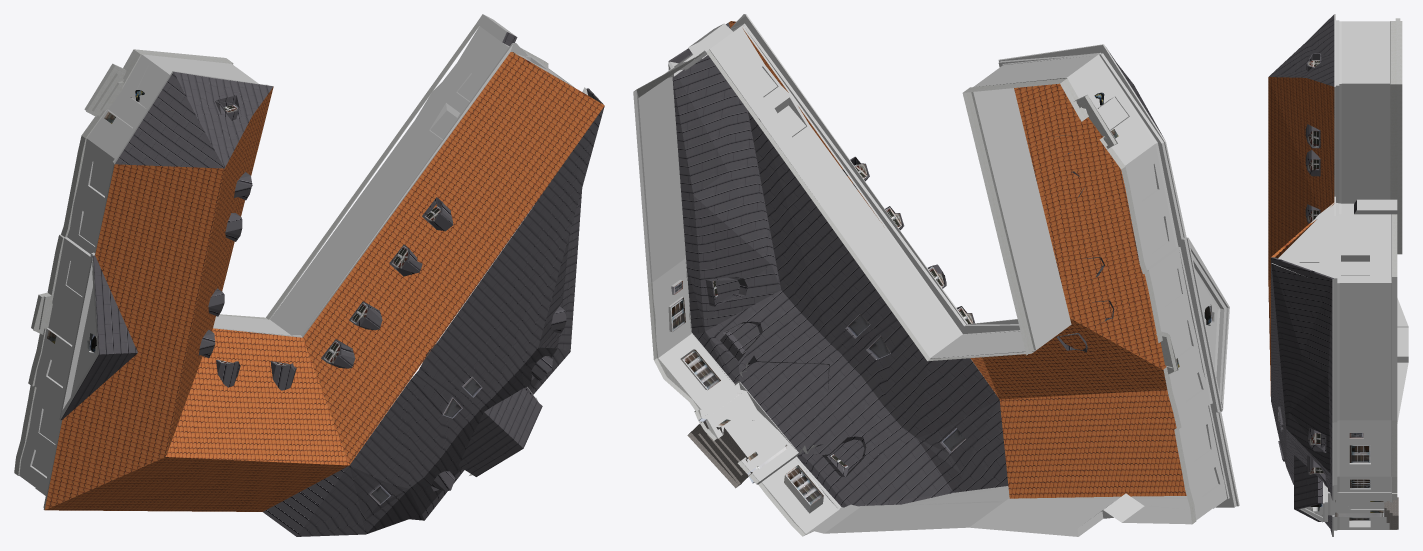
File: Rahukohtu-2-origo.obj
3 renders of one model, left to right at view 1: azimuth 30°, elevation 25°; view 2: azimuth 150°, elevation 25°; view 3: azimuth 270°, elevation 25°, orthographic. The views are drawn at different scales.
Visible parts, largest first — view 1: Rahukohtu_2; view 2: Rahukohtu_2, xxx; view 3: Rahukohtu_2, xxx.
Part boxes in pixels (box(x1,y1,x2,y2)): Rahukohtu_2: box(14, 14, 604, 536); Rahukohtu_2: box(635, 14, 1239, 536); xxx: box(633, 61, 1009, 533); Rahukohtu_2: box(1268, 14, 1408, 536); xxx: box(1332, 277, 1397, 422).
Bounding box in the file's own units: 36.31 × 32.5 × 9.79.
